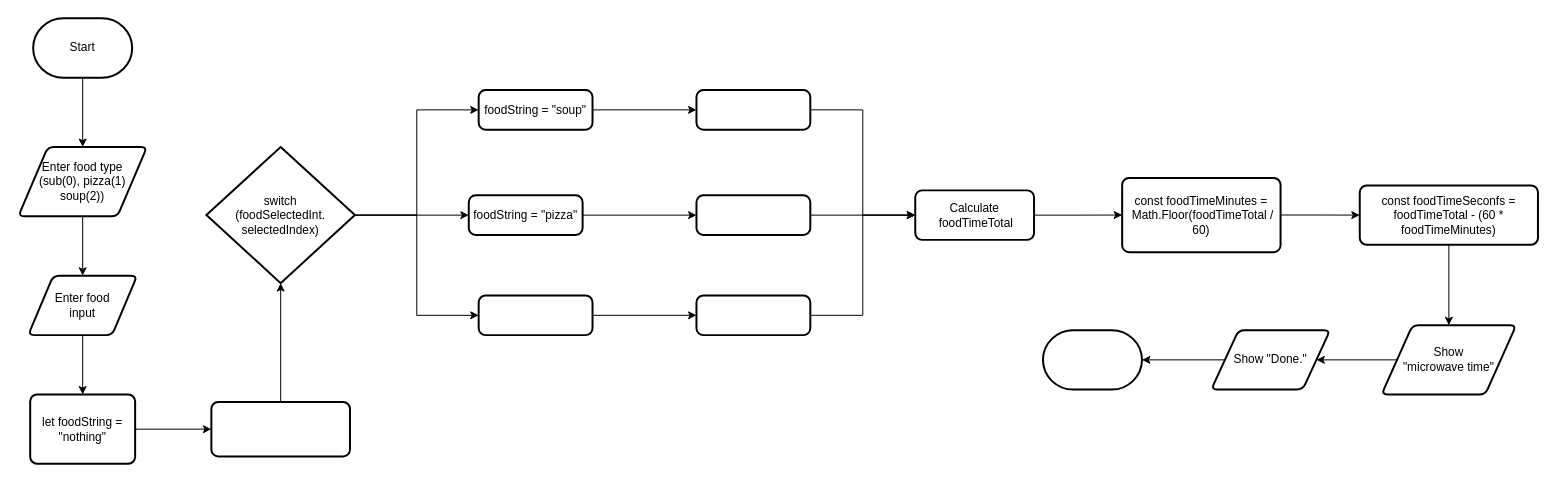
This 1555x481 diagram has some shape labels left out. The centre of each missing label's shape, as x and y in pixels:
foodString = "sub": pixel 535 315
foodTimeTotal = 105: pixel 753 109
foodTimeTotal = 45: pixel 753 214
foodTimeTotal = 60: pixel 753 315
let foodTimeTotal = 0: pixel 280 428
Stop: pixel 1091 359
